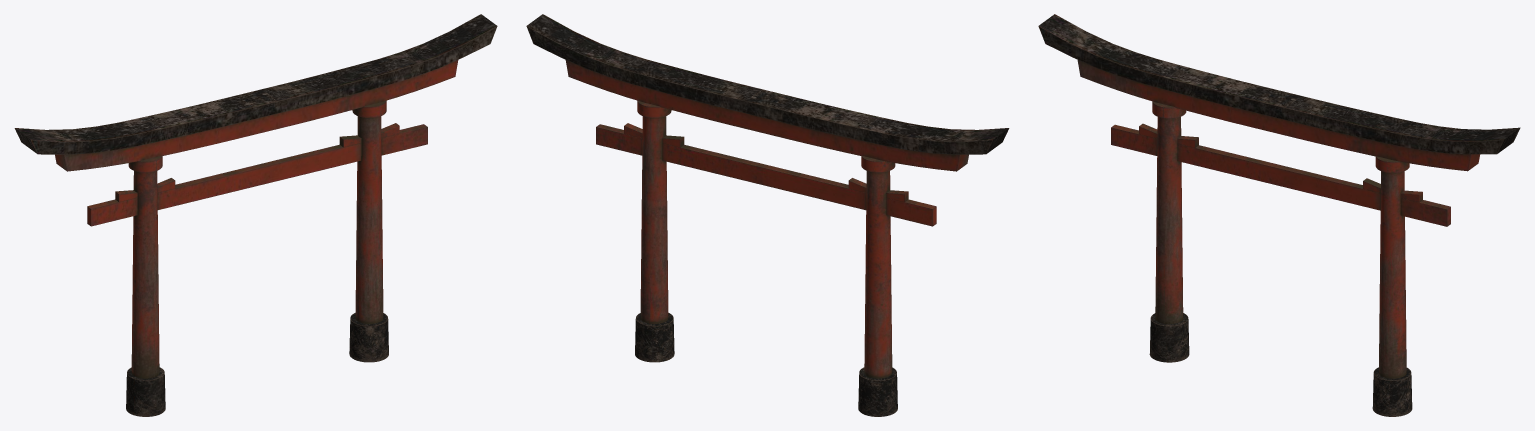
The model's file is torii.glb.
3 views of the same model, side by side, from view 1: azimuth 30°, elevation 25°; view 2: azimuth 150°, elevation 25°; view 3: azimuth 330°, elevation 25° (orthographic).
Visible parts, largest first — view 1: Torii Gate; view 2: Torii Gate; view 3: Torii Gate.
Part boxes in pixels (x1,y1,x2,y2): Torii Gate: (14, 14, 497, 416); Torii Gate: (526, 14, 1009, 416); Torii Gate: (1038, 14, 1520, 416).
Bounding box in the file's own units: 16.58 × 10.35 × 1.22.
Materials: 1 (1 with a texture image).
